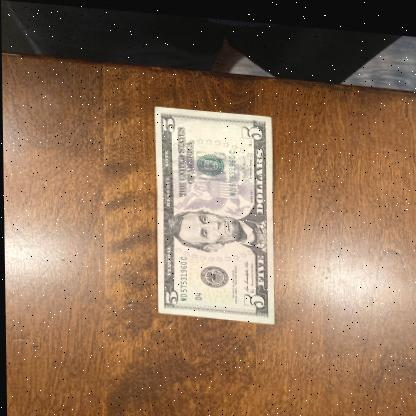five-front: (152, 102, 274, 320)
